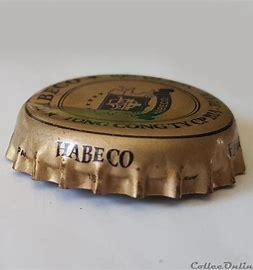metal: (6, 75, 246, 198)
